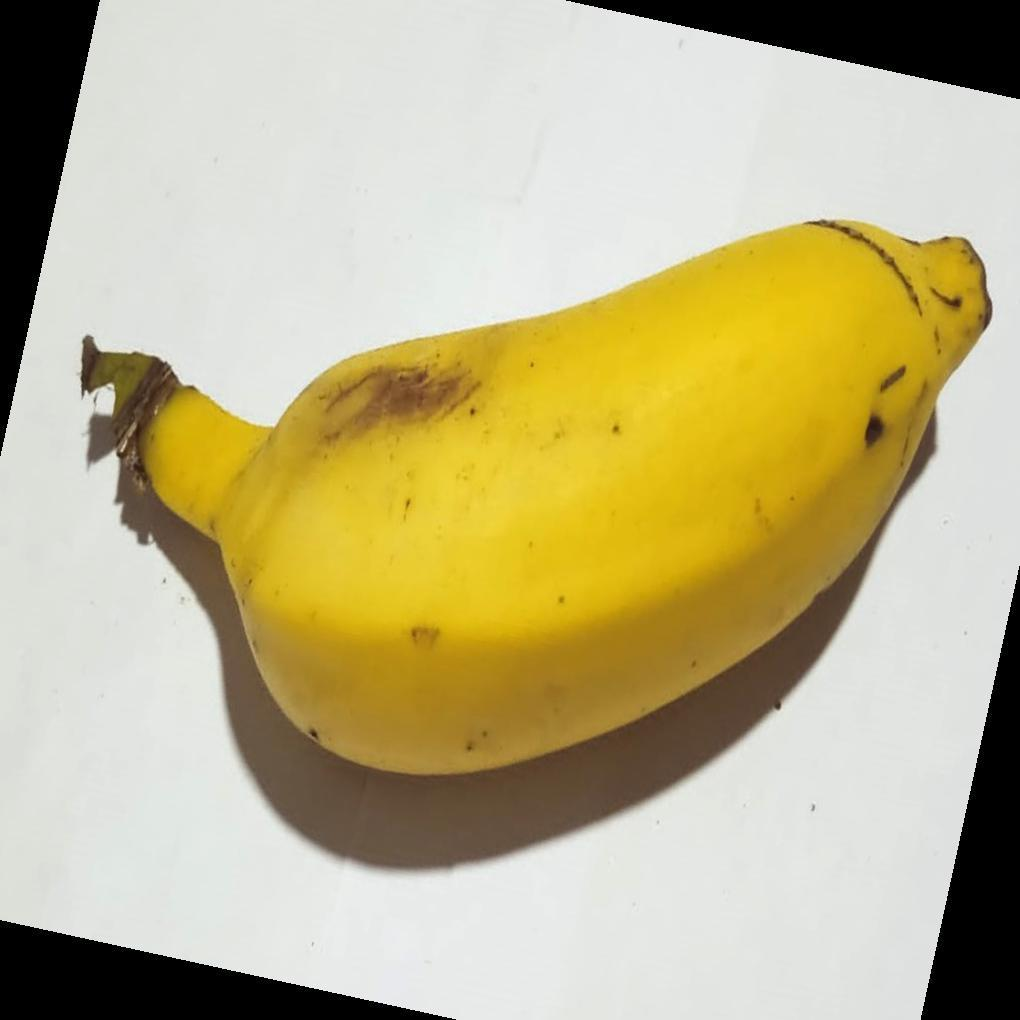Banana Ripe: (91, 183, 1014, 771)
